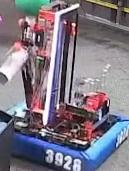blue_number: (43, 147, 84, 171), (113, 123, 129, 149)
